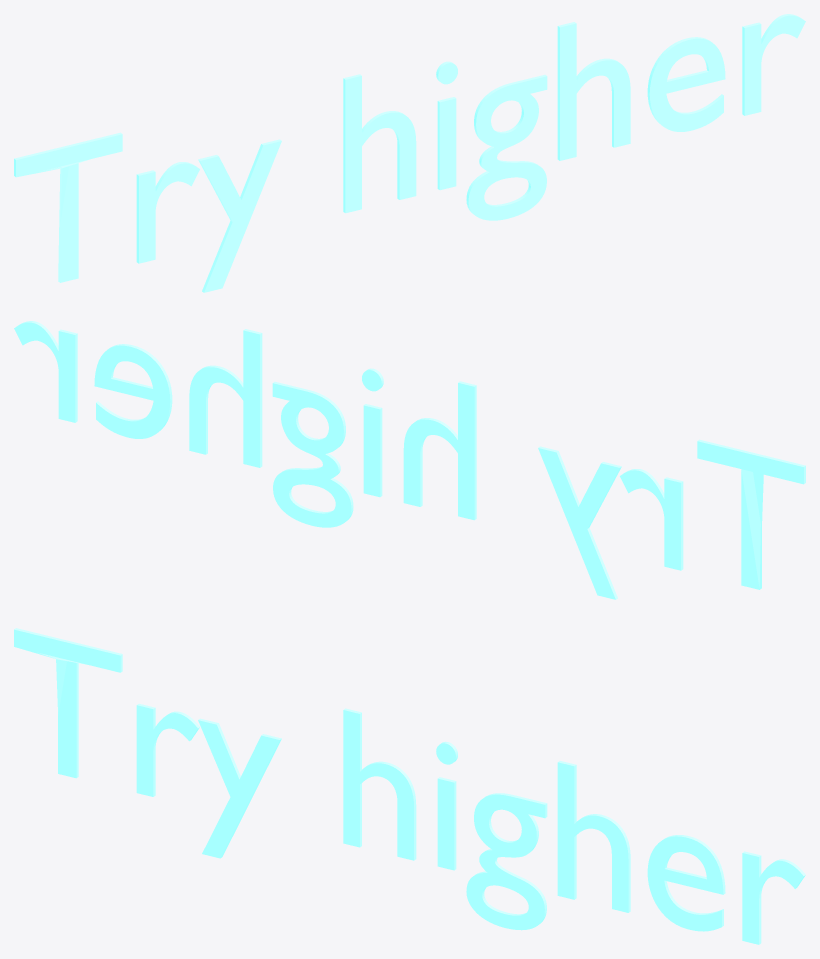
The model's file is tryHigher.gltf.
The picture shows the model from 3 angles, top to bottom: view 1: azimuth 30°, elevation 25°; view 2: azimuth 150°, elevation 25°; view 3: azimuth 330°, elevation 25°; orthographic projection.
Visible parts, largest first — view 1: TryHigher; view 2: TryHigher; view 3: TryHigher.
Part boxes in pixels (x1,y1,x2,y2): TryHigher: (14,14,805,292); TryHigher: (14,321,805,599); TryHigher: (14,628,805,944).
Bounding box in the file's own units: 4.22 × 0.912 × 0.0396.
